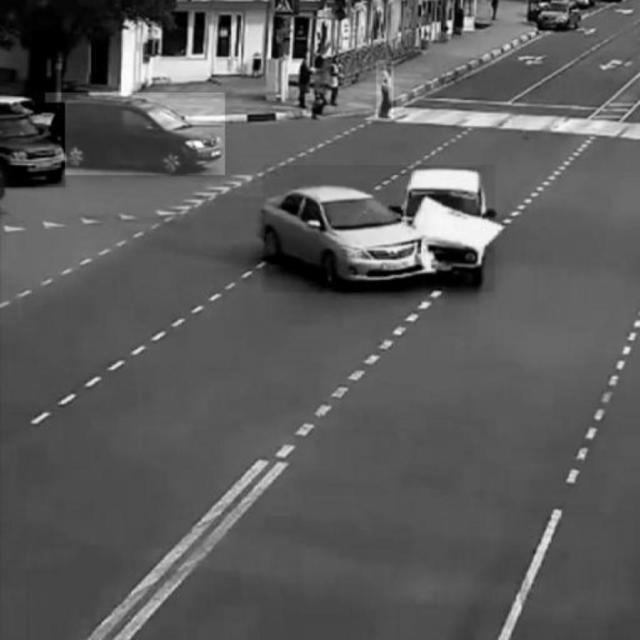accident: (263, 165, 495, 293), (45, 92, 225, 174), (0, 102, 64, 187)
person: (376, 60, 393, 118)
